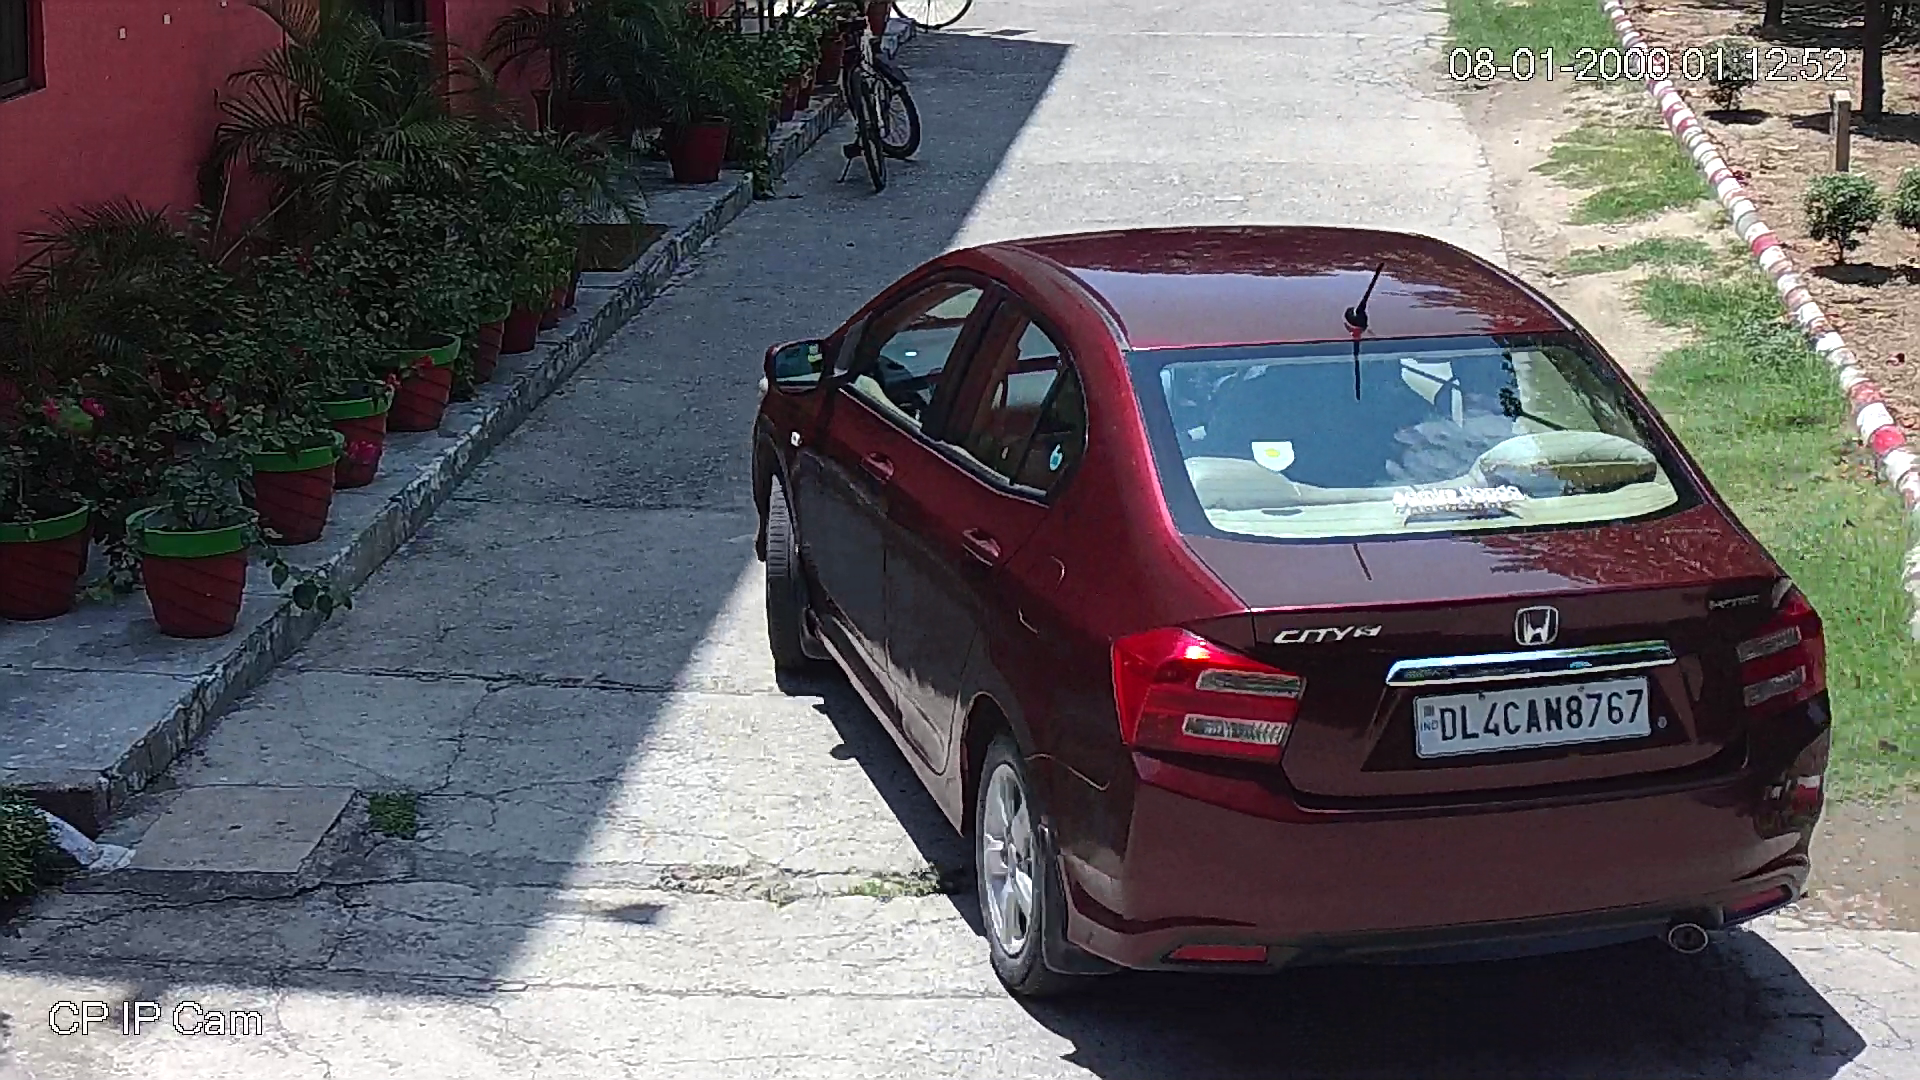plate: (1404, 672, 1664, 764)
